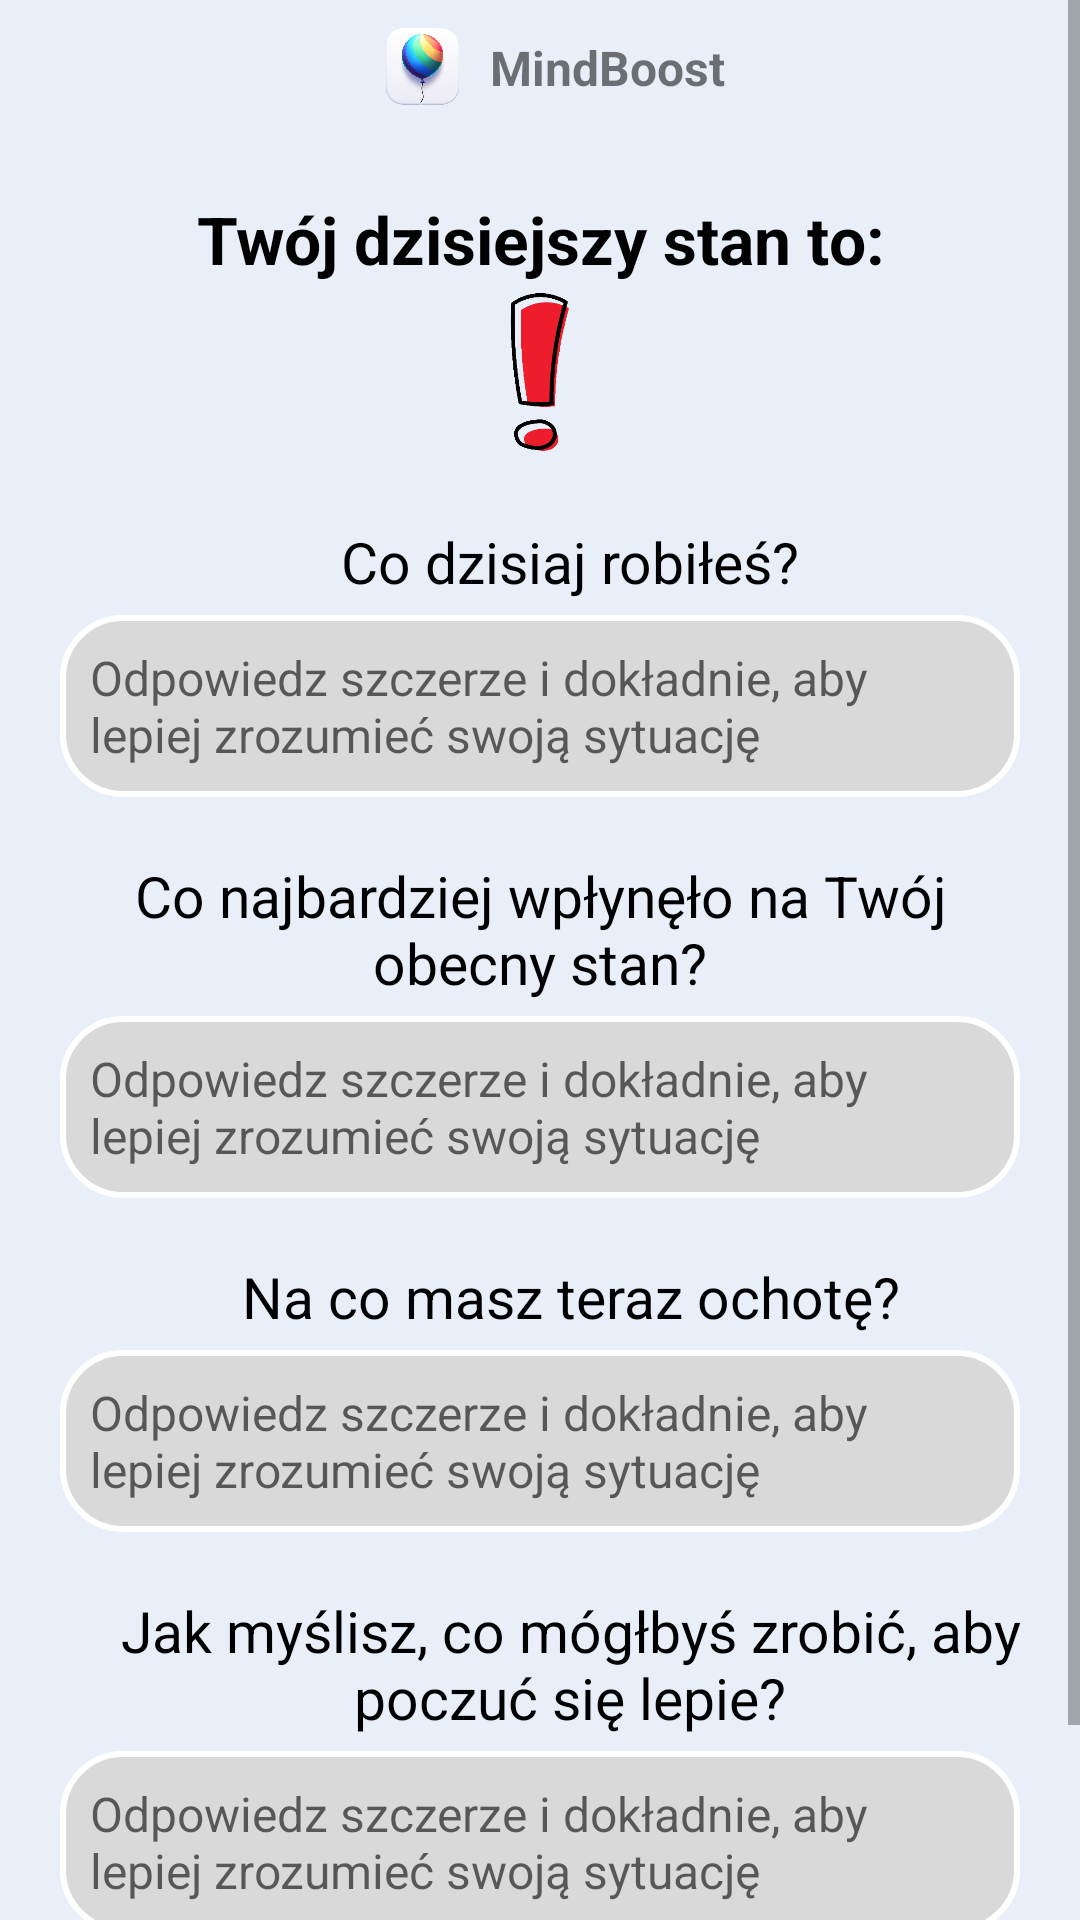

Icons on this 1080x1920 Android screen, each with the point to tap as (x,y):
exclamation mark: (540,372)
